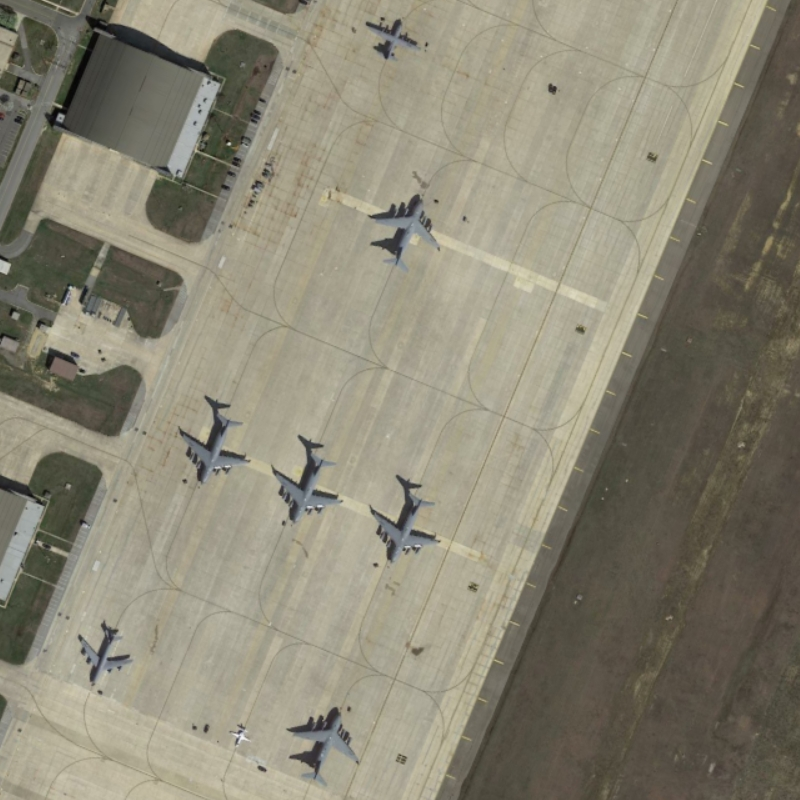A14: (75, 623, 135, 687)
A2: (364, 16, 424, 64)
A3: (289, 708, 363, 789), (369, 487, 444, 566), (369, 194, 443, 274), (180, 409, 254, 488), (271, 449, 345, 526)
